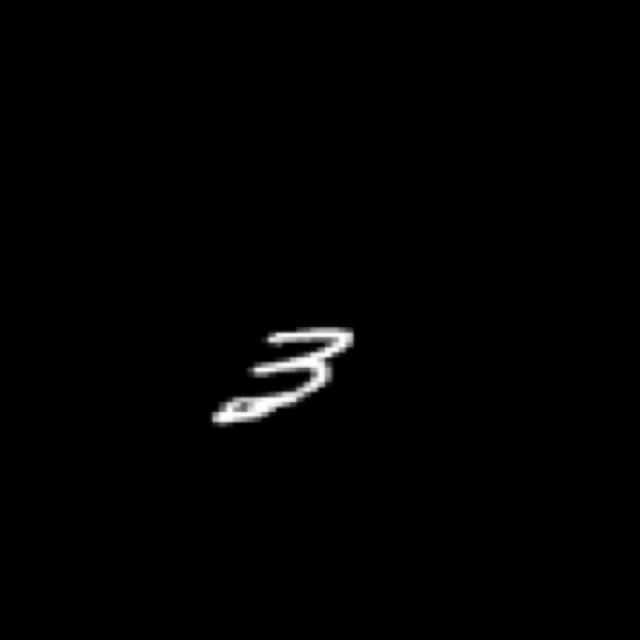three -3-: (202, 313, 366, 429)
